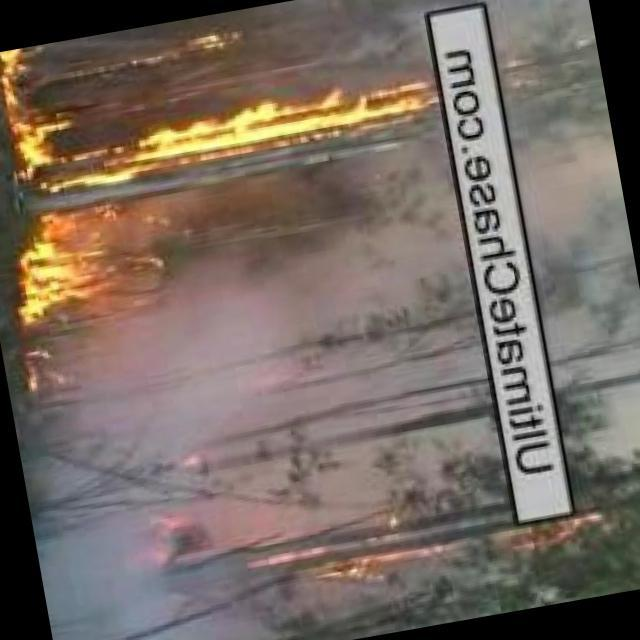Fire: (75, 72, 430, 173), (1, 42, 109, 334), (310, 531, 448, 593), (499, 503, 611, 554), (169, 21, 245, 64)
